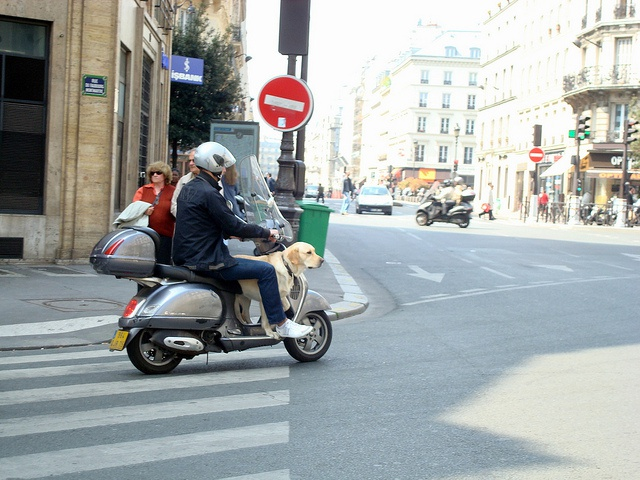non-vehicle: (89, 152, 338, 376), (415, 188, 477, 228)
